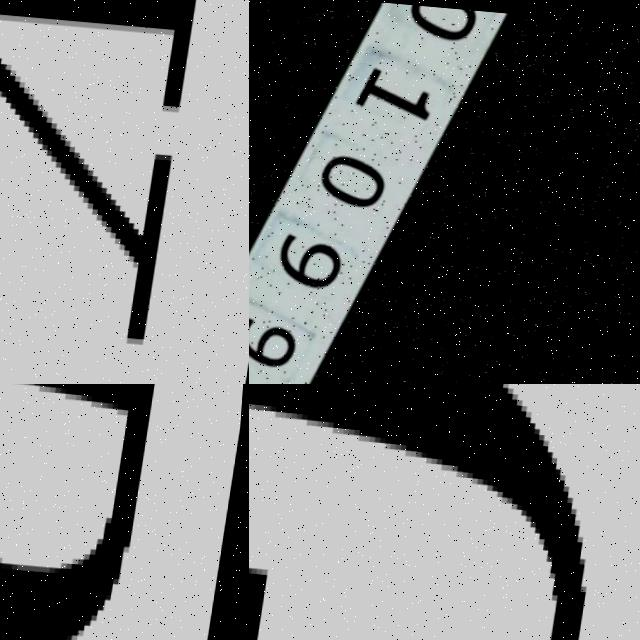0: (301, 128, 421, 222), (384, 2, 507, 61)
1: (339, 42, 469, 144)
9: (256, 209, 378, 306), (249, 294, 329, 380)
G: (249, 384, 640, 640)
K: (0, 0, 216, 384)
